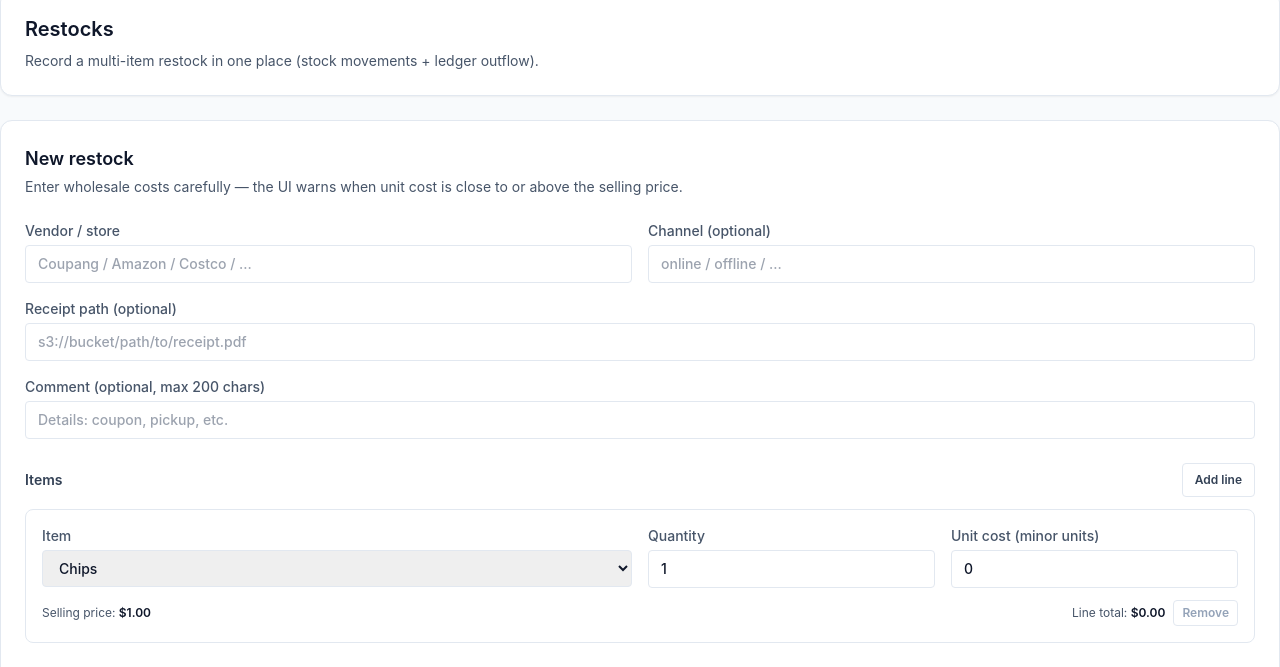
Test: RestockManager › warns on low/negative margin and submits a purchase order payload
Type "Coupang" into the field labelled "Vendor / store". click: (328, 264)
box: [25,245,632,283]
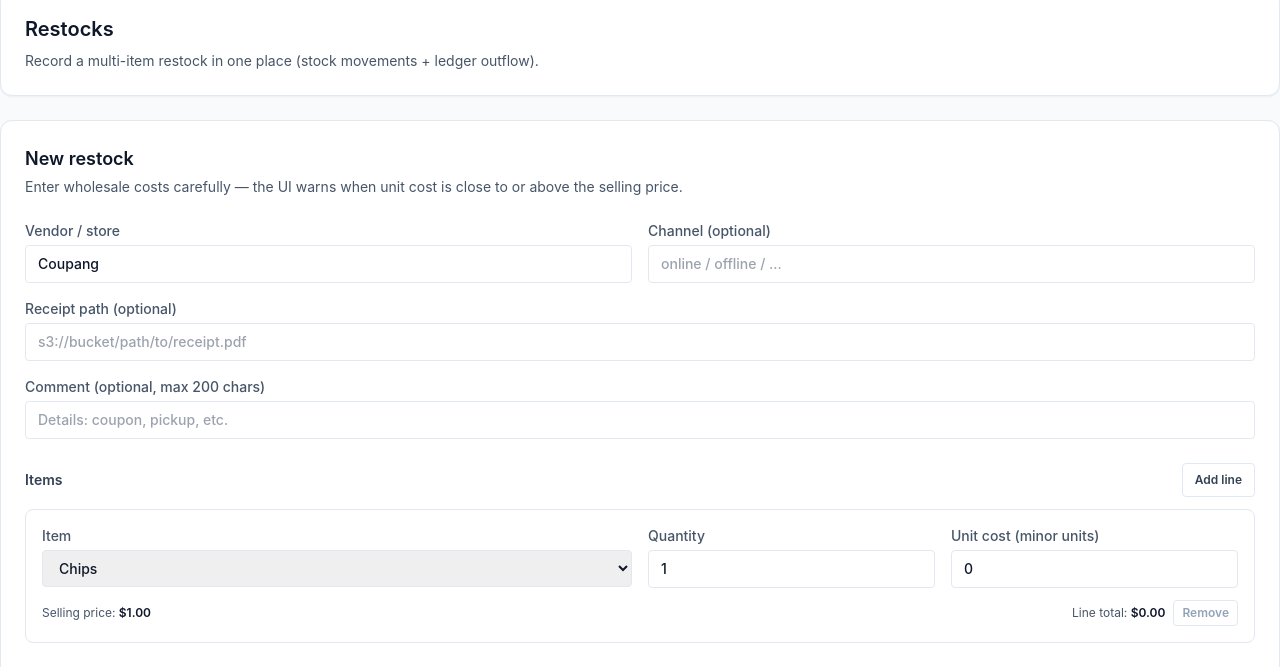
Replace the text in the number field labelled "Unit cost (minor units)" with "100". click: (1094, 569)
box: [951,550,1238,588]
(page scrolled)
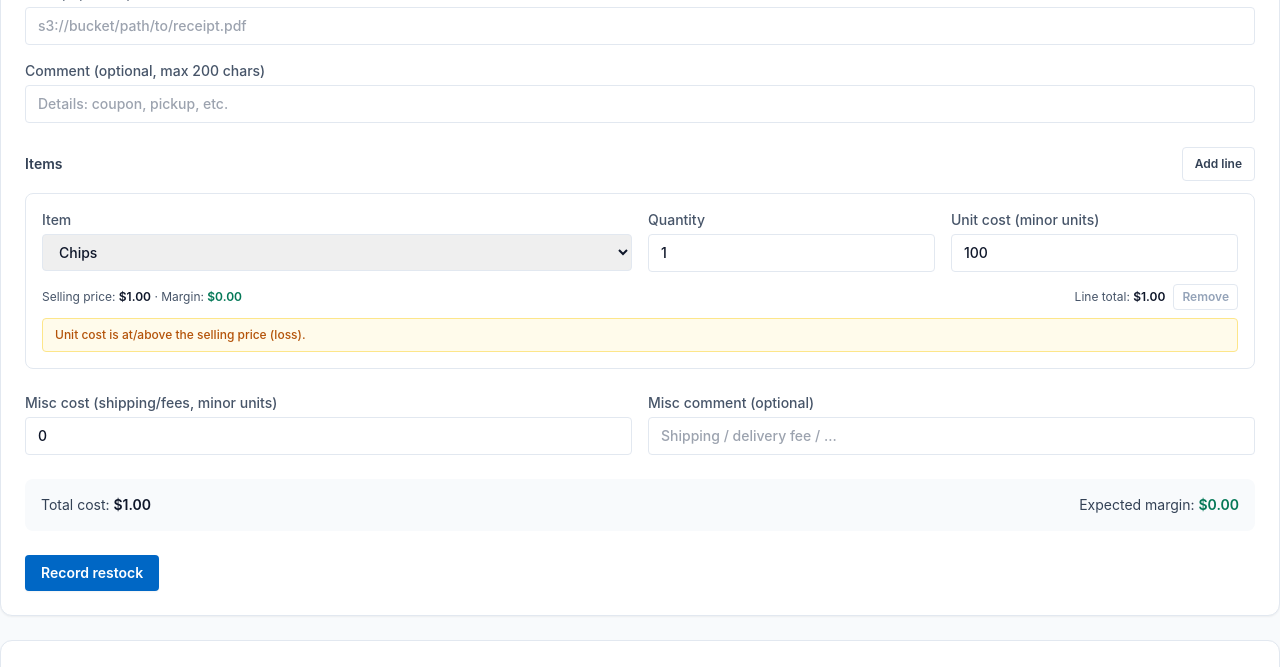
Expected: the text "Unit cost is at/above the selling price (loss)." is shown, [42,318,1238,352]
Click the button "Record restock". click: click(92, 573)
box: [25,555,159,591]
(page scrolled)
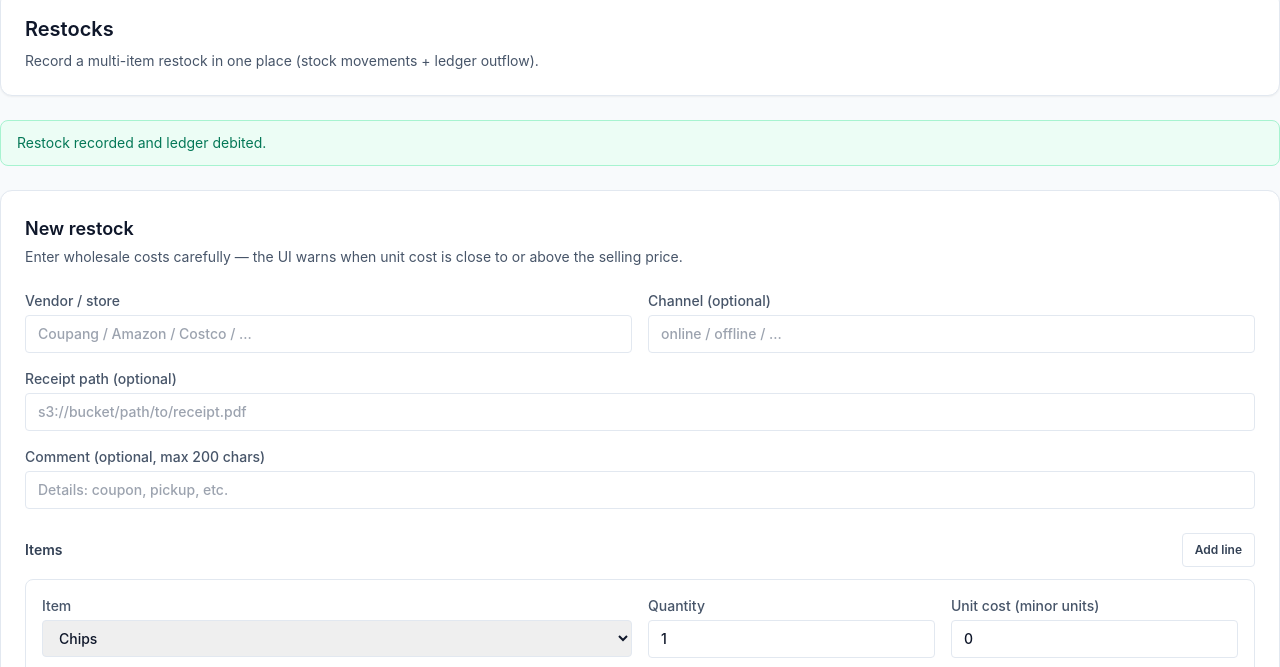
Expected: the text "Restock recorded and ledger debited." is shown, [0,120,1279,166]
